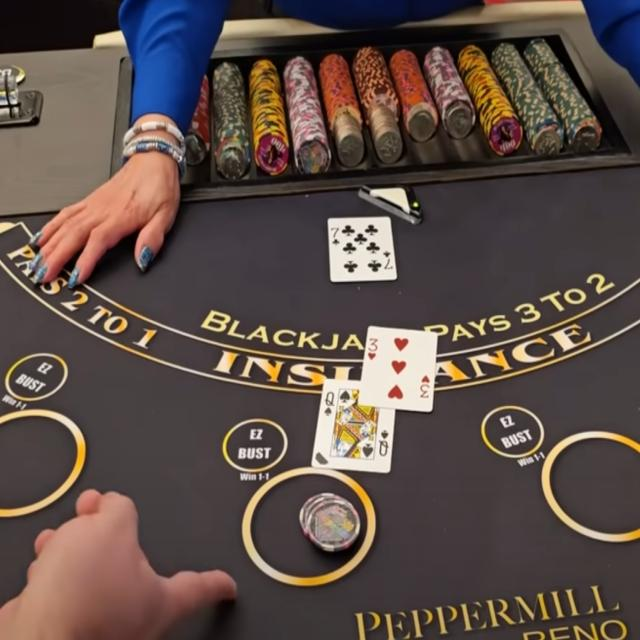3: (367, 337, 378, 352)
7: (330, 225, 339, 239)
Q: (324, 388, 336, 407)
